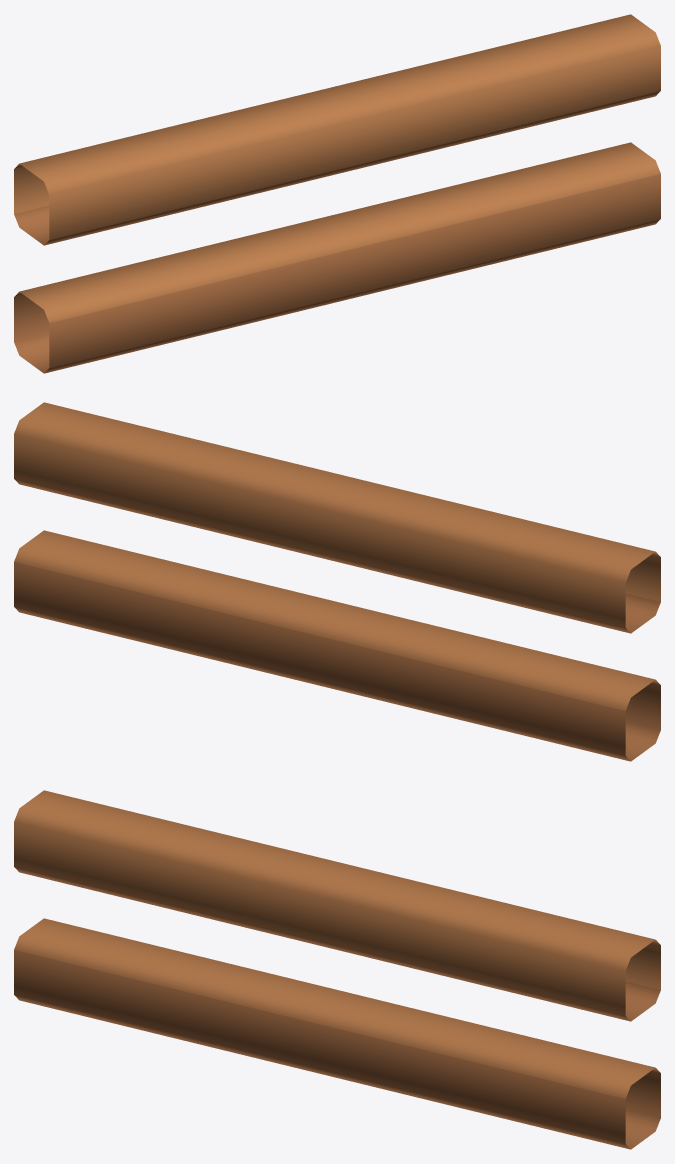
File: itch_tiny_homely_house_fence_rails_long.glb
3 renders of one model, top to bottom at view 1: azimuth 30°, elevation 25°; view 2: azimuth 150°, elevation 25°; view 3: azimuth 330°, elevation 25°, orthographic.
Visible parts, largest first — view 1: fence_rails_long; view 2: fence_rails_long; view 3: fence_rails_long.
Boxes of the visible parts, bbox=[...] form: fence_rails_long: bbox=[14, 14, 660, 373]; fence_rails_long: bbox=[14, 402, 660, 761]; fence_rails_long: bbox=[14, 790, 660, 1149].
Size of the model in its own units: 1.18 by 0.354 by 0.118.
